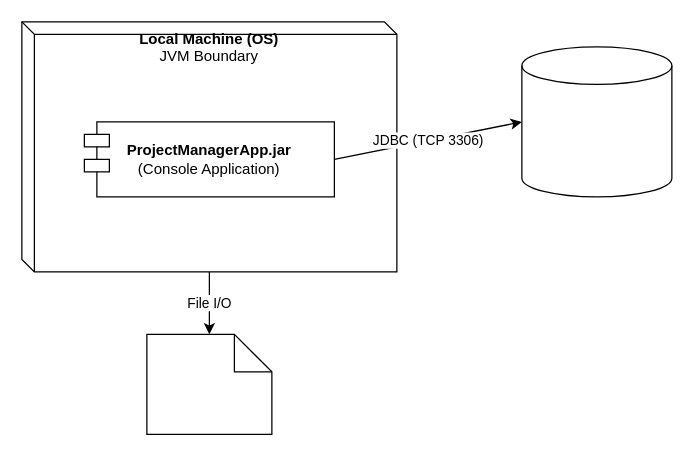
The diagram is 694 pixels wide and 456 high, and some of its shapes have lost their labels. Each missing label, with the centre of its shape:
File System (.dat / .db): [209,383]
MySQL Server Database Instance: [596,121]
